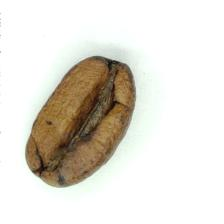NG: (47, 55, 118, 173)
